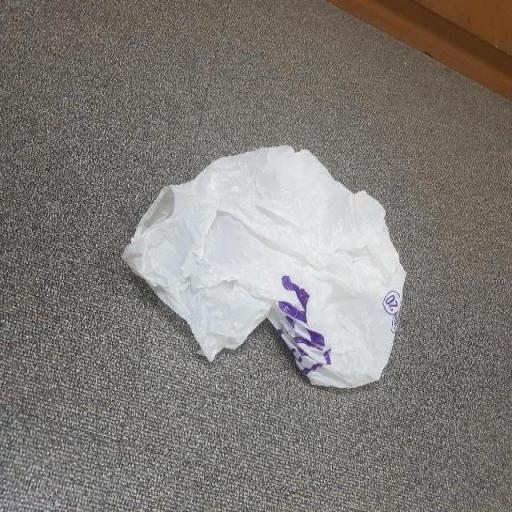plastic-bag: (120, 140, 410, 396)
